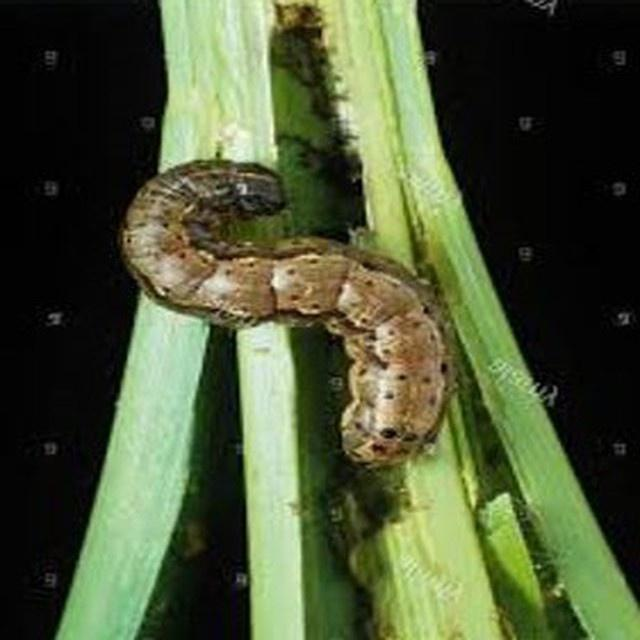Plaga: (123, 156, 453, 473)
